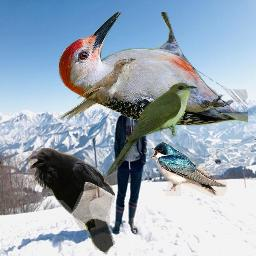Crow: (28, 148, 115, 255)
Cuckoo: (106, 82, 198, 177), (59, 58, 136, 119)
Swallow: (149, 141, 227, 196)
Woodpecker: (59, 12, 248, 126)
